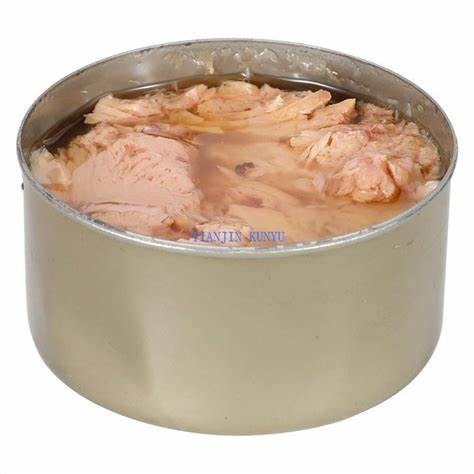Tuna: (14, 66, 456, 252)
